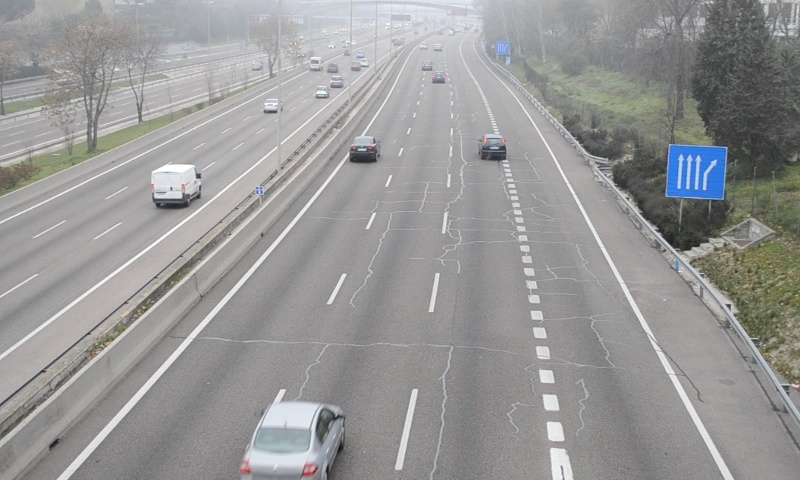car: (241, 402, 344, 480), (348, 136, 379, 161), (479, 134, 506, 159)
